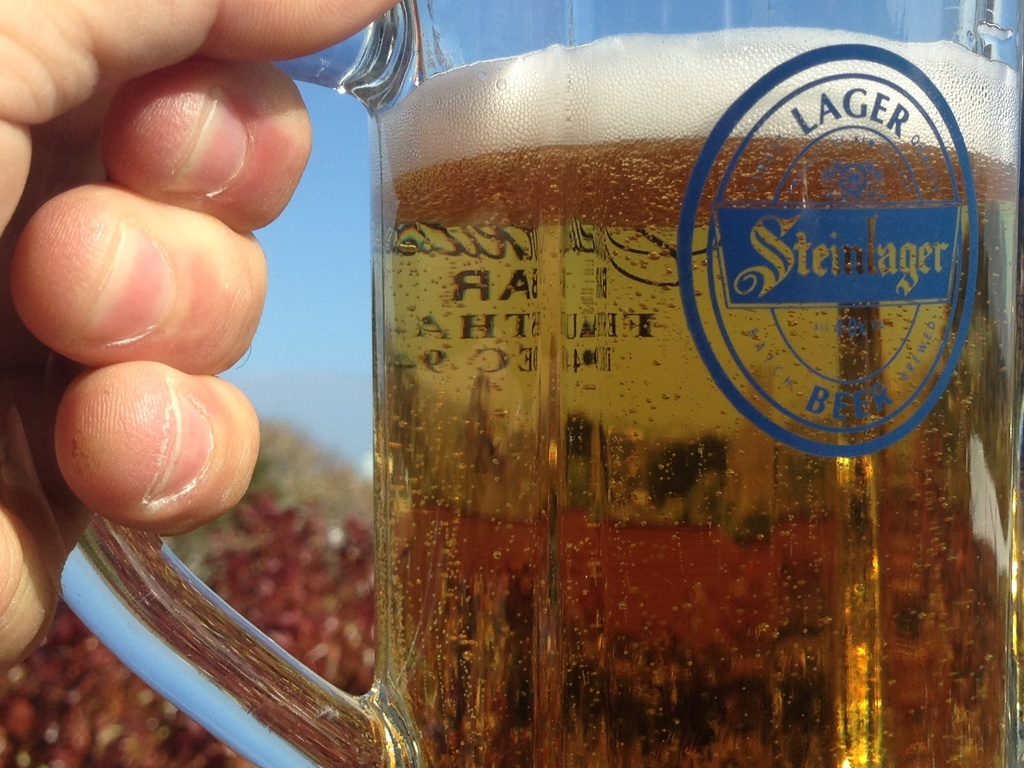Beer: (372, 39, 1022, 760)
